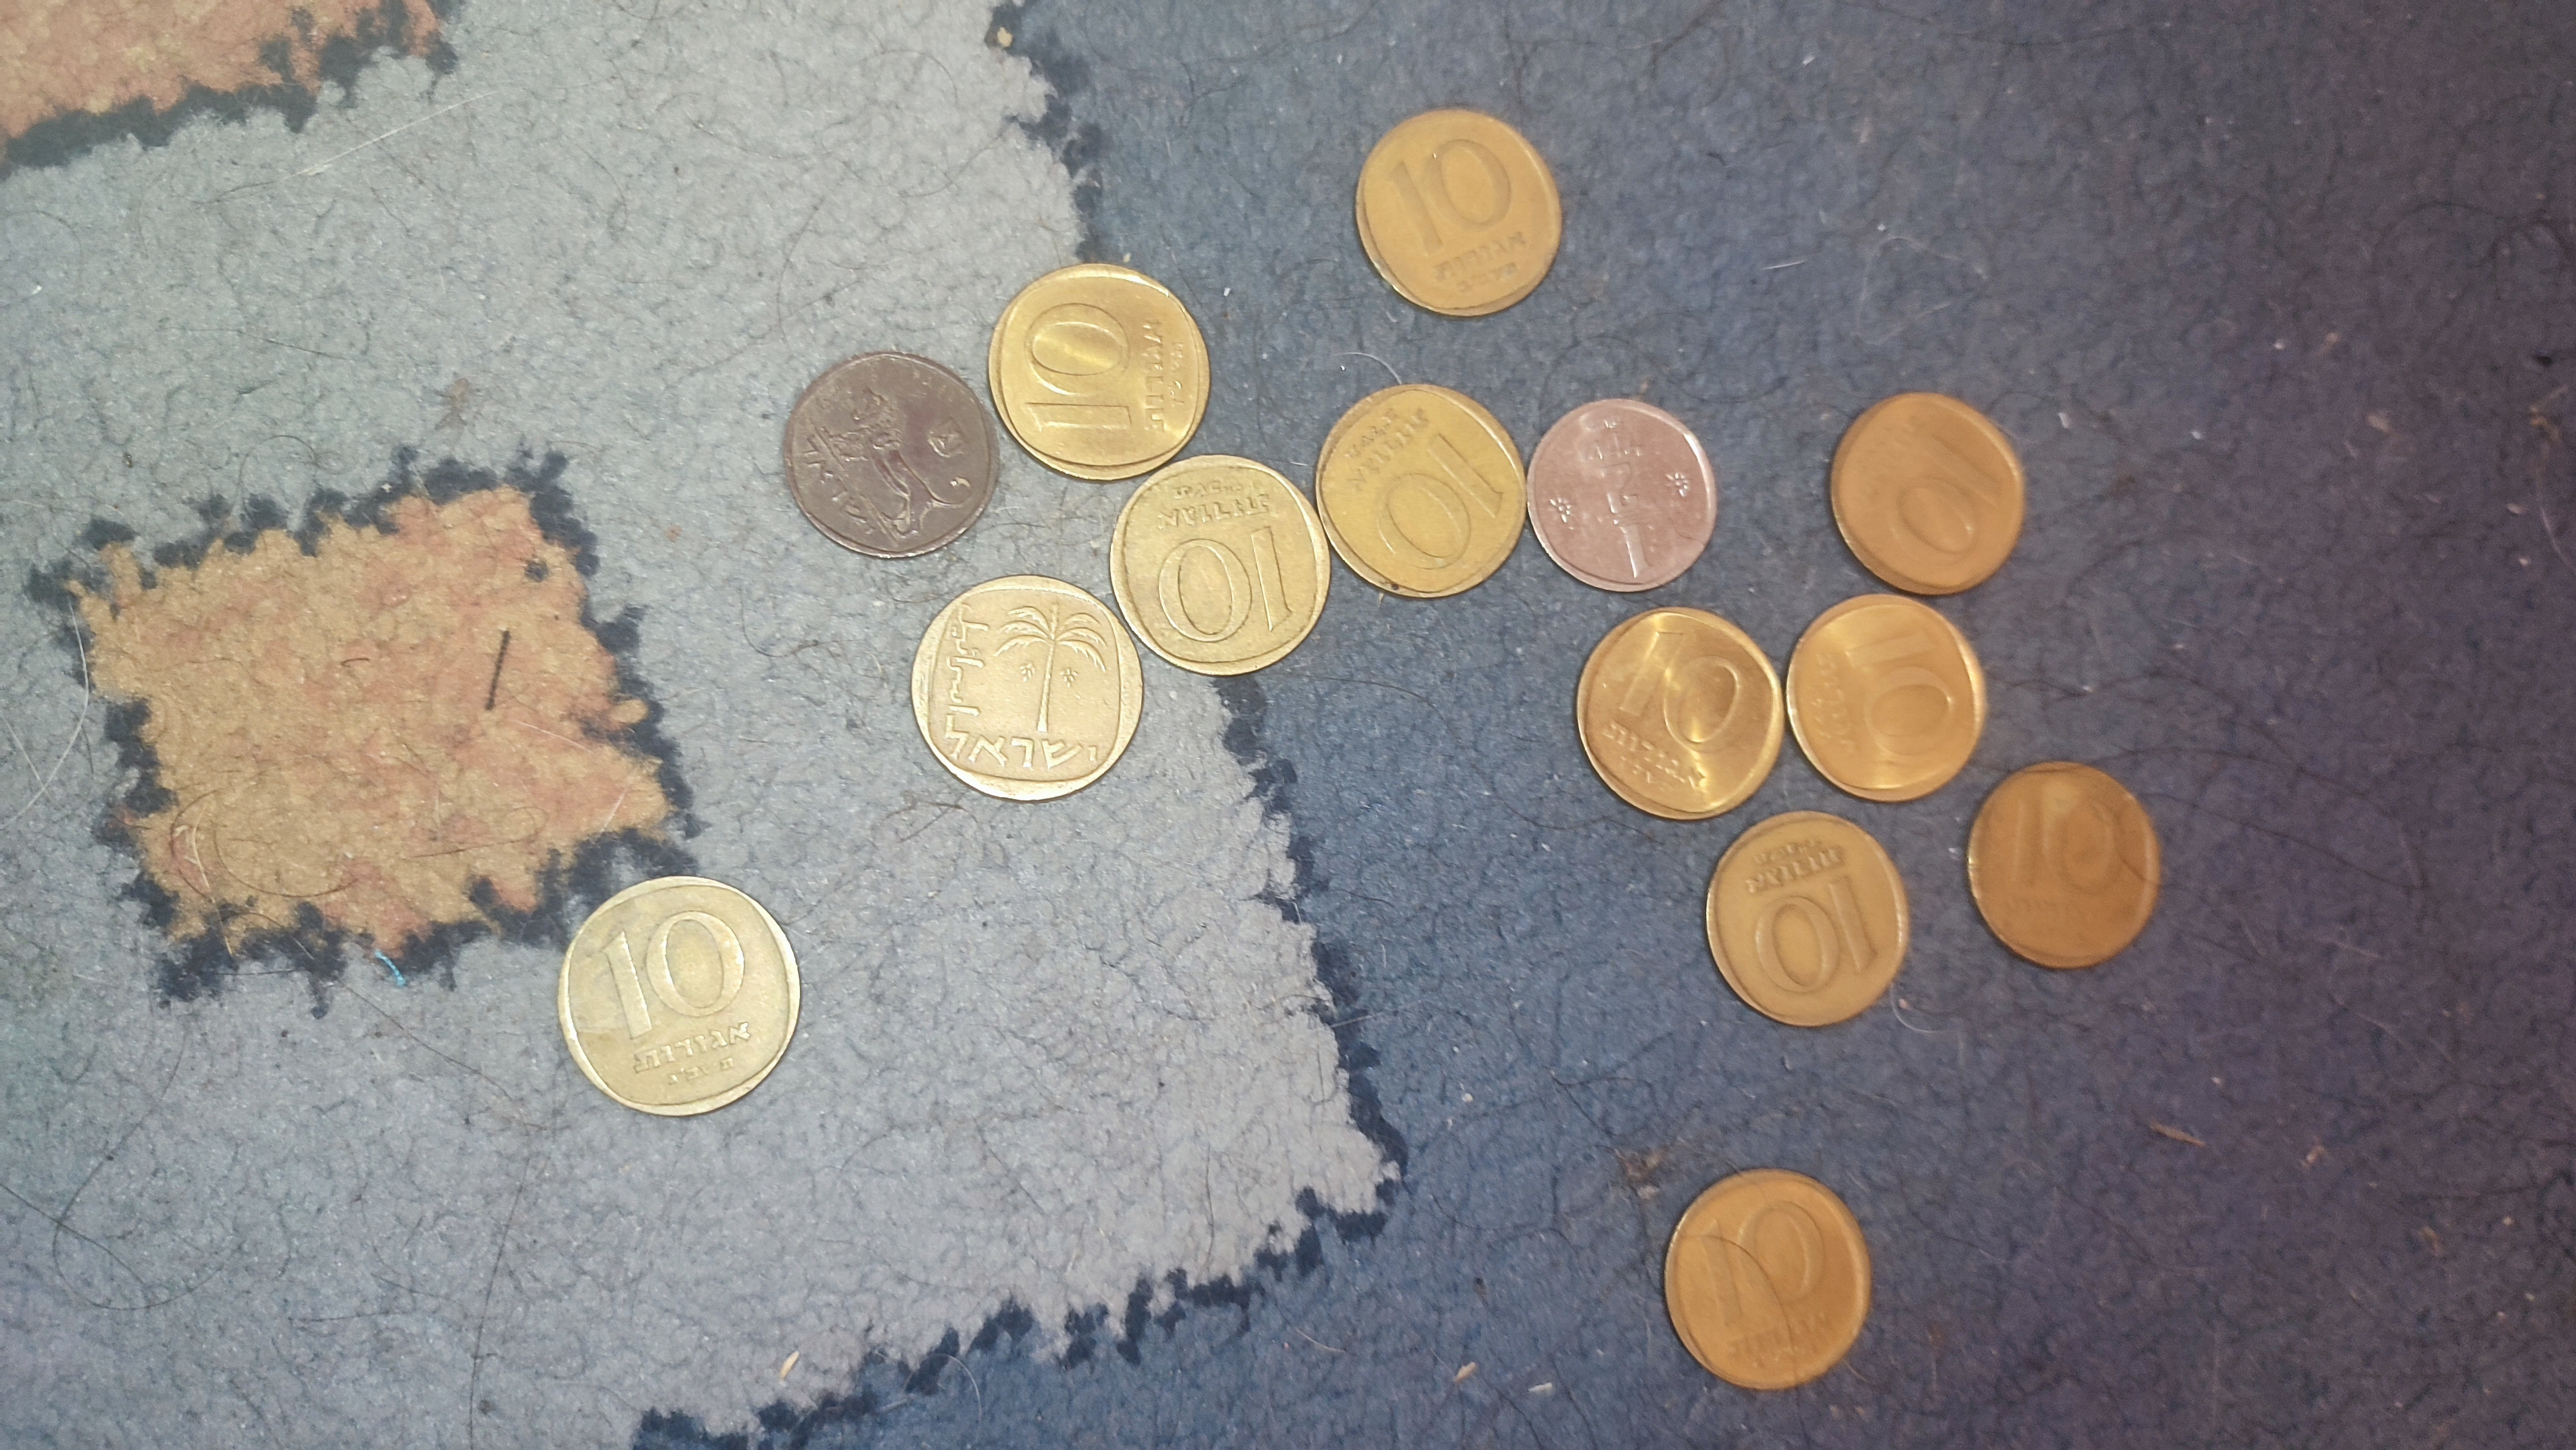1/2 old sheqel: (777, 345, 1005, 564), (1525, 391, 1720, 596)
10 old agora brown: (552, 866, 805, 1128), (906, 571, 1152, 812), (980, 256, 1217, 490), (1102, 447, 1334, 681), (1693, 805, 1916, 1038), (1307, 375, 1530, 607), (1568, 601, 1785, 829), (1656, 1164, 1872, 1393), (1346, 104, 1569, 318), (1815, 385, 2029, 607), (1955, 757, 2167, 980), (1783, 589, 1992, 808)
